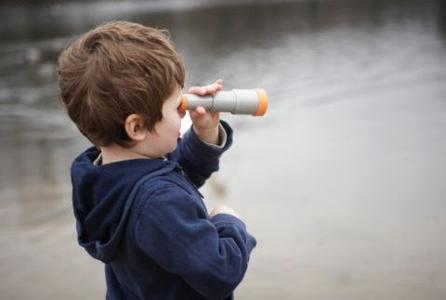person: (57, 20, 258, 299)
